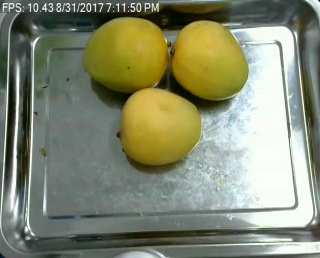Mango: (120, 84, 205, 171), (80, 15, 177, 91), (170, 15, 254, 102)
